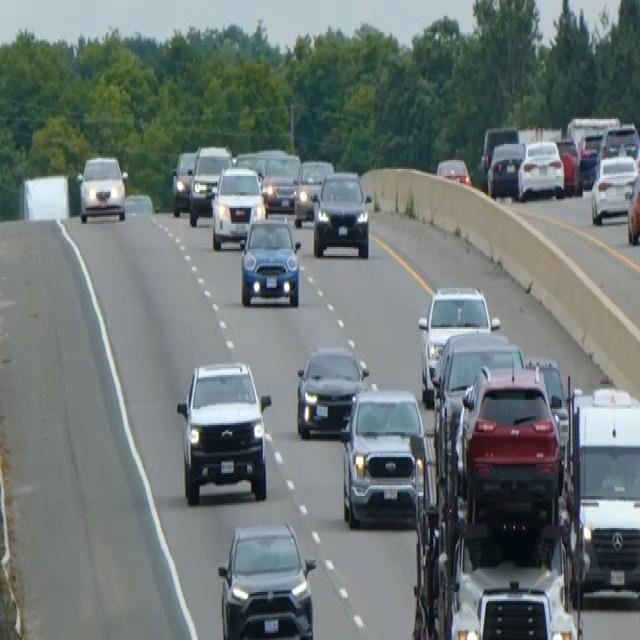car: (454, 363, 562, 528), (431, 327, 523, 480), (176, 359, 272, 505), (339, 388, 431, 528), (217, 519, 317, 638), (417, 285, 499, 407), (295, 345, 370, 439), (239, 215, 301, 308), (523, 353, 570, 468), (312, 169, 371, 258), (209, 163, 265, 249), (187, 142, 232, 226), (76, 153, 128, 222), (590, 153, 638, 224), (516, 137, 565, 199), (293, 158, 334, 226), (477, 122, 519, 188), (260, 151, 301, 213), (486, 139, 525, 197), (566, 114, 619, 148), (171, 149, 196, 215), (577, 128, 604, 188), (555, 133, 581, 194), (599, 121, 639, 160), (435, 156, 470, 185), (626, 180, 639, 246)
lorry: (445, 519, 579, 638)
minibus: (561, 380, 639, 604)
